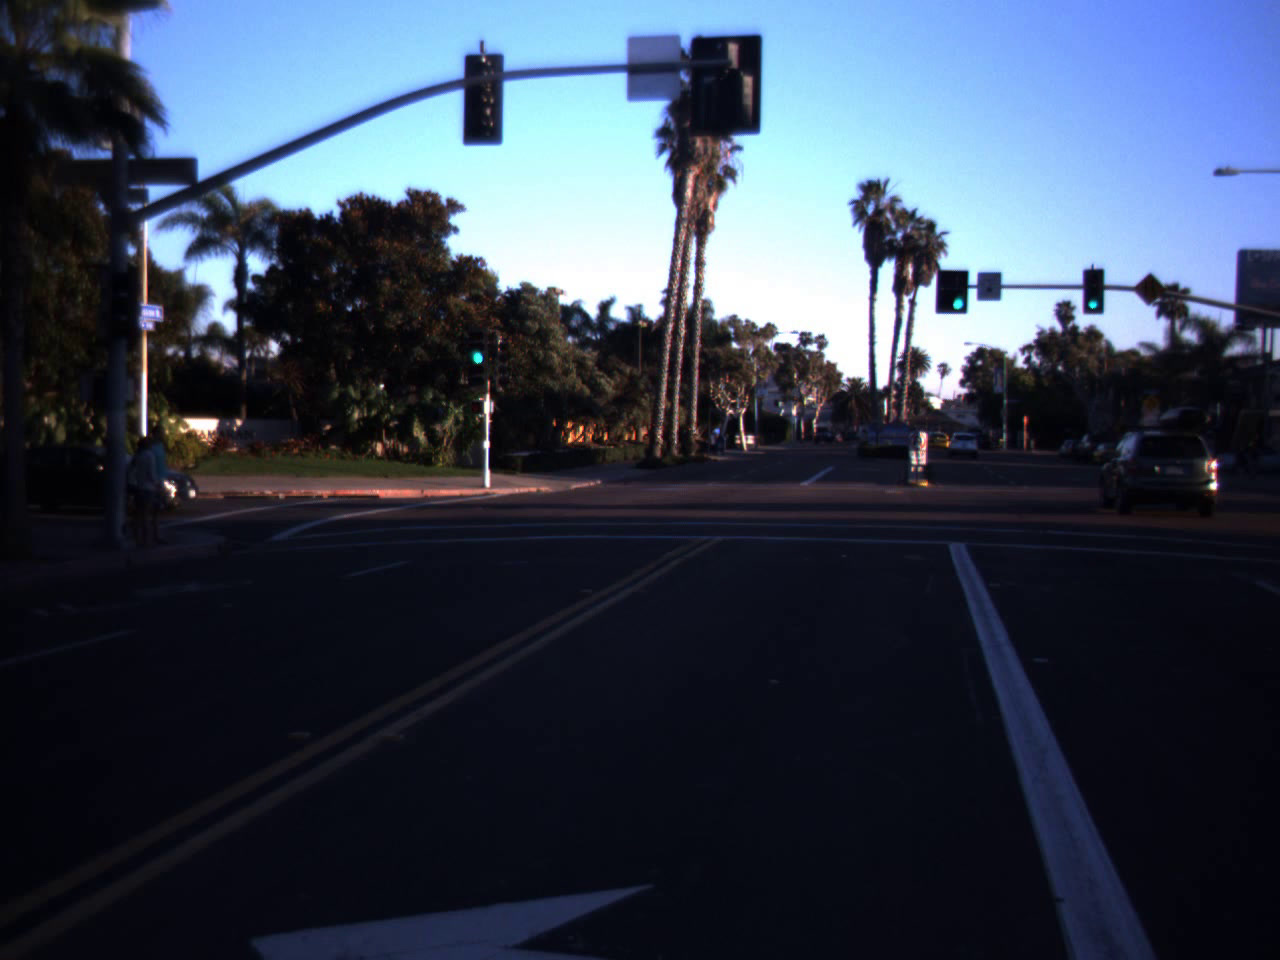go: (466, 314, 490, 369), (946, 272, 970, 312), (1084, 281, 1102, 311)
